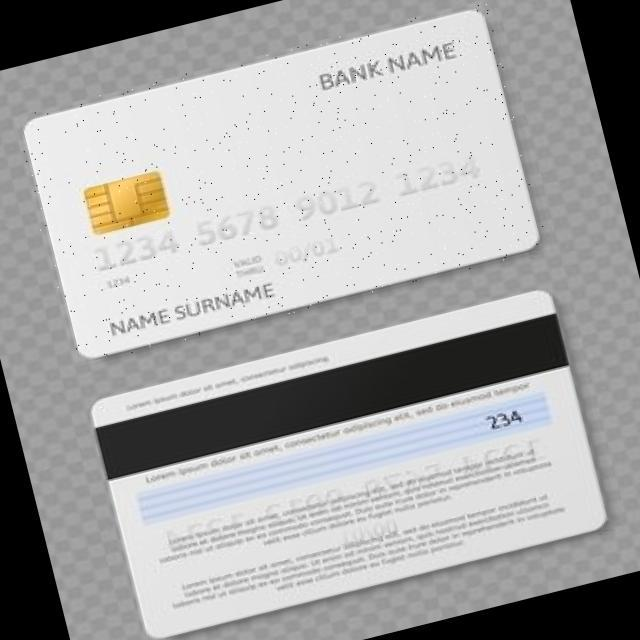payment_card: (21, 7, 541, 358), (89, 289, 609, 637)
